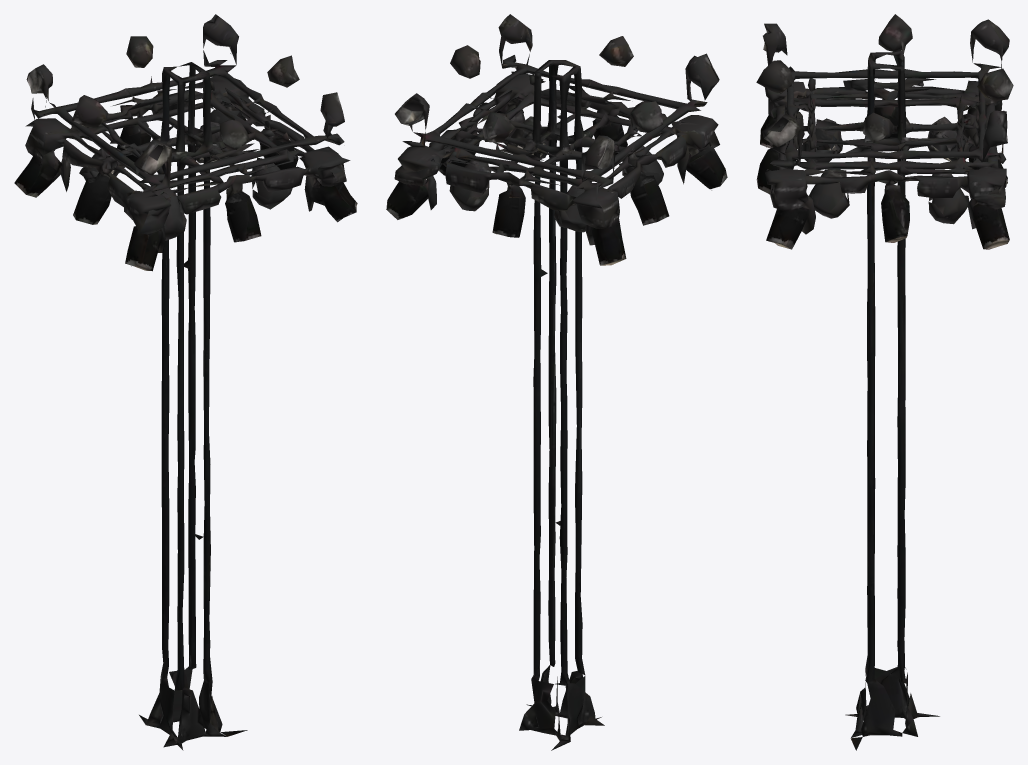
Rendered from tower-truss-s1.lo.glb.
3 renders of one model, left to right at view 1: azimuth 30°, elevation 25°; view 2: azimuth 150°, elevation 25°; view 3: azimuth 270°, elevation 25°, orthographic.
Visible parts, largest first — view 1: geometry_0; view 2: geometry_0; view 3: geometry_0.
Boxes of the visible parts, box(x1,y1,x2,y2) form: geometry_0: box(14, 14, 357, 750); geometry_0: box(386, 14, 727, 750); geometry_0: box(756, 14, 1013, 750).
Bounding box in the file's own units: 0.375 × 0.9995 × 0.3481.
1 material, 1 textured.
